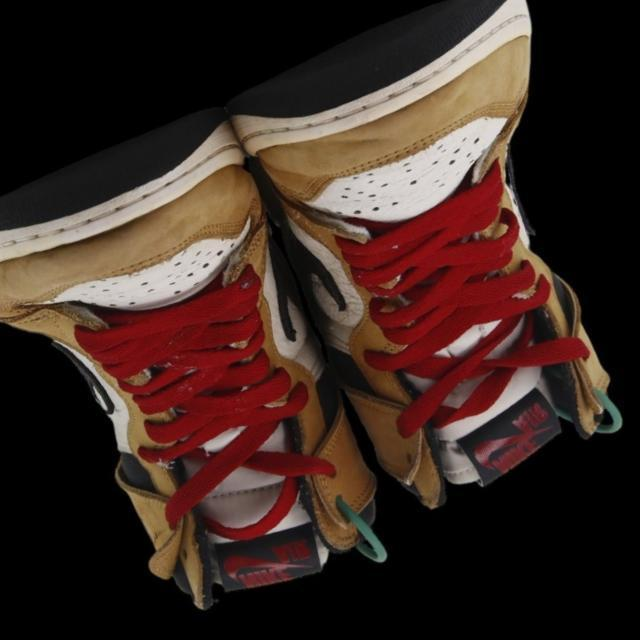nike original jordan 1: (0, 82, 423, 640), (207, 0, 640, 533)
